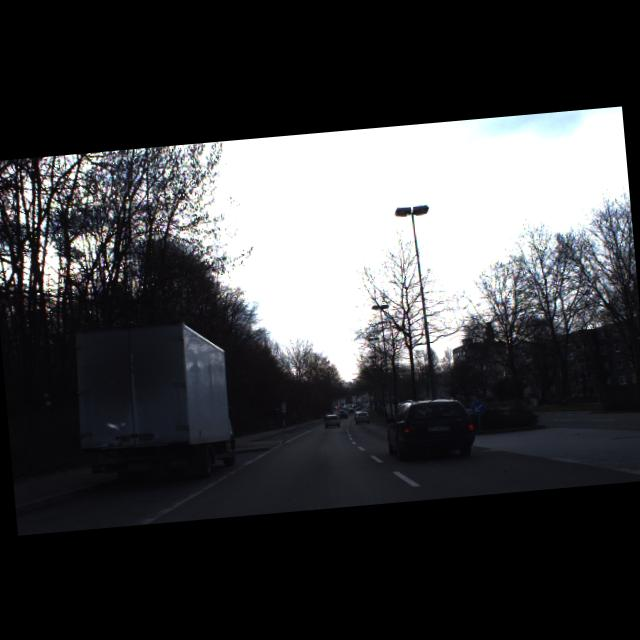mandatory: (471, 398, 487, 415)
